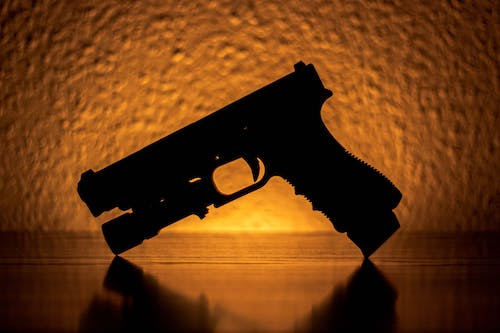gun: (74, 58, 407, 264)
